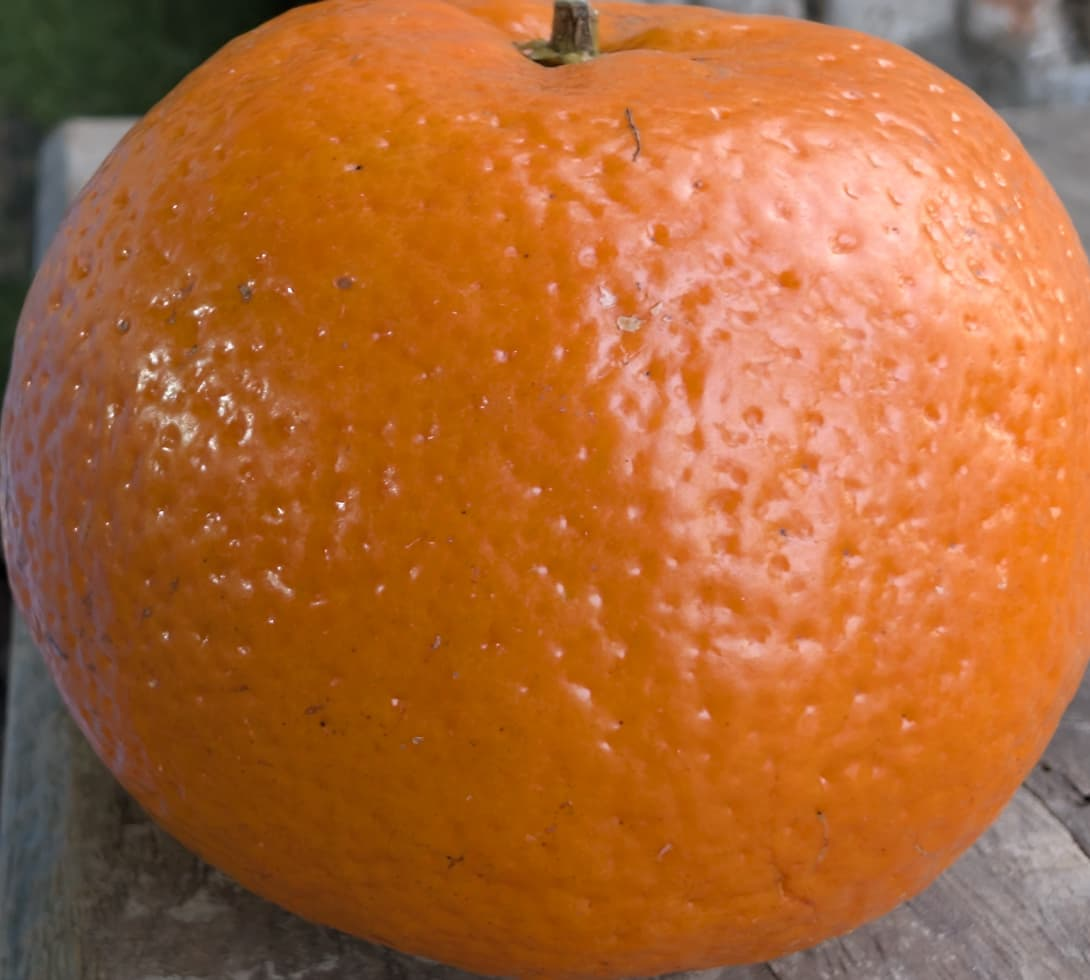orange: (232, 225, 969, 928)
